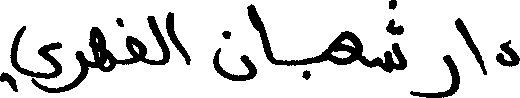ا: (253, 3, 280, 72), (457, 15, 484, 77), (169, 9, 189, 65)
ب: (293, 46, 333, 79)
د: (494, 37, 518, 66)
ر: (405, 50, 459, 96), (58, 41, 86, 93)
ش: (372, 0, 406, 73)
ع: (329, 29, 362, 65)
ف: (117, 18, 145, 66)
ل: (146, 9, 170, 65)
ن: (213, 28, 256, 81)
ه: (91, 24, 115, 72)
ي: (0, 24, 61, 94)
